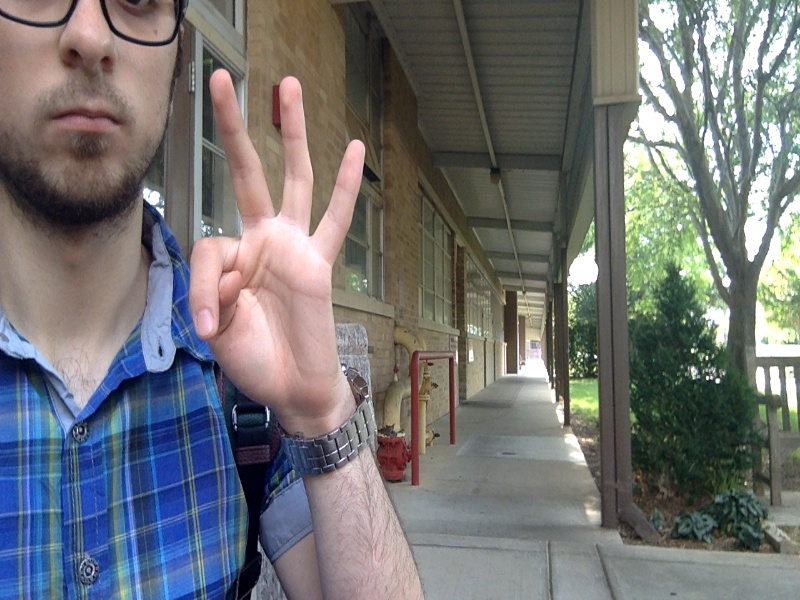3-hand: (189, 65, 366, 409)
